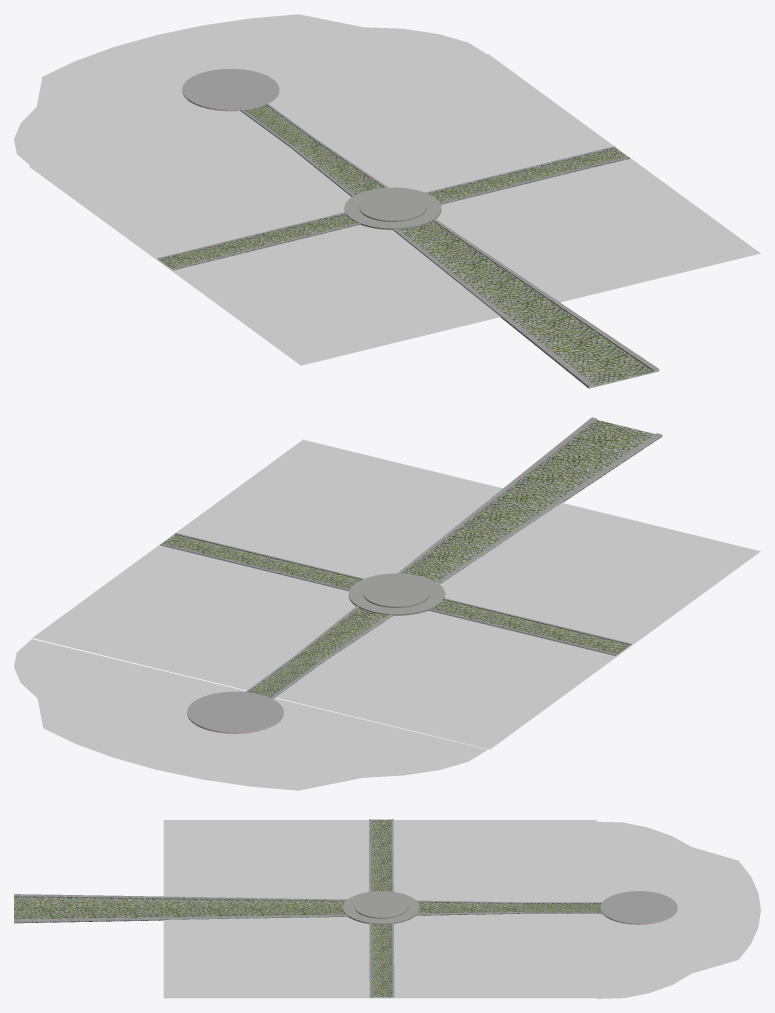
The model's file is Mainnn (2) (1).fbx.
3 views of the same model, one above another, from view 1: azimuth 30°, elevation 25°; view 2: azimuth 150°, elevation 25°; view 3: azimuth 270°, elevation 25° (orthographic). The views are drawn at different scales.
Parts seen in each view (by area): view 1: Plane; view 2: Plane; view 3: Plane.
Part boxes in pixels (<box>): Plane: <box>14,14,760,388</box>; Plane: <box>14,417,760,790</box>; Plane: <box>14,819,760,998</box>.
Size of the model in its own units: 10158 by 86.78 by 17981.
8 materials, 4 textured.
